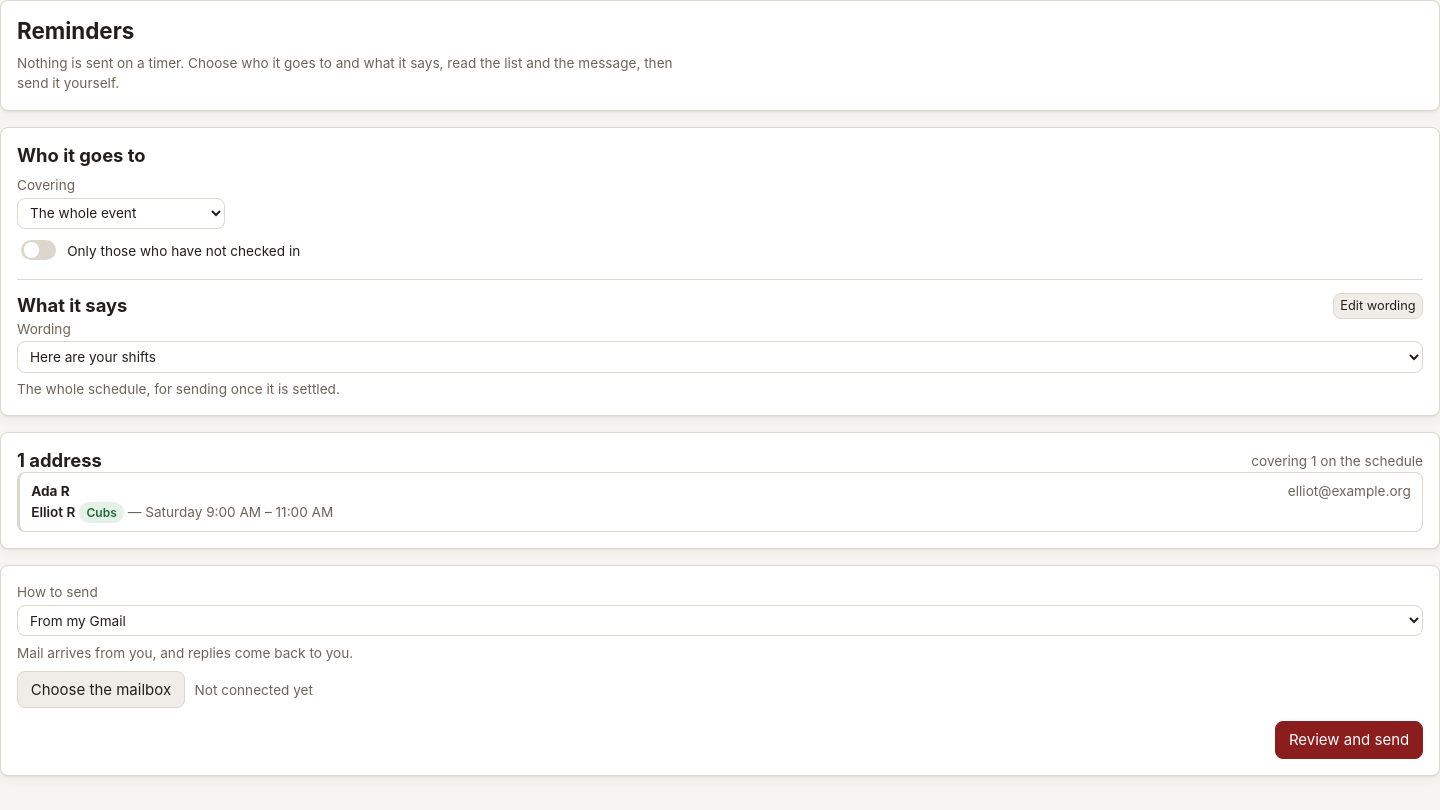
Scenario: the preview › for one hour of a stretch somebody works twice › names the day in the subject, and not an hour it does not work
Select "One shift" in the dropdown labelled "Covering" at [121, 213], box [17, 198, 225, 229]
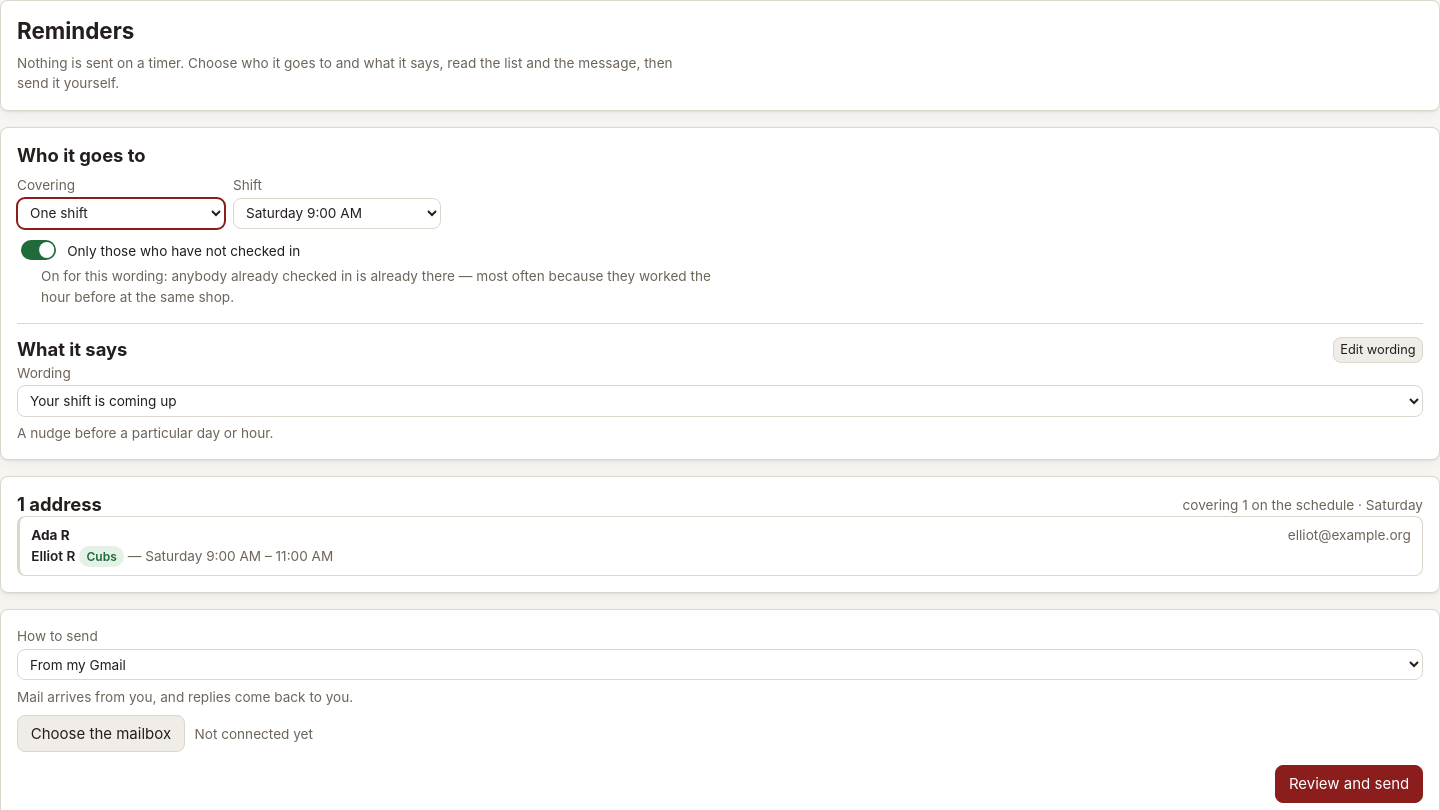
Select "Saturday 9:00 AM" in the dropdown labelled "Shift" at [337, 213], box [233, 198, 441, 229]
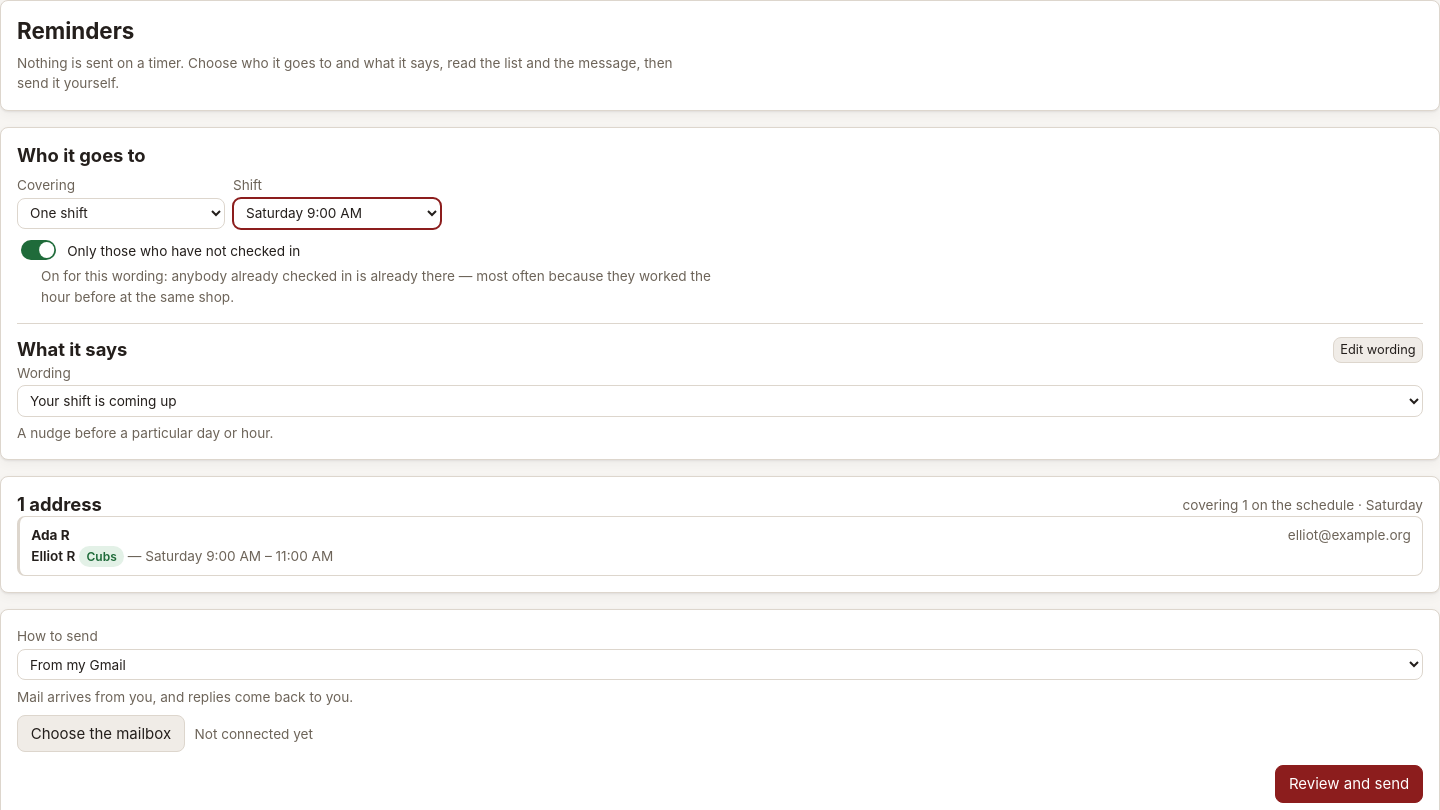
Click the button "Review and send".
click(1349, 784)  # box [1275, 765, 1423, 802]
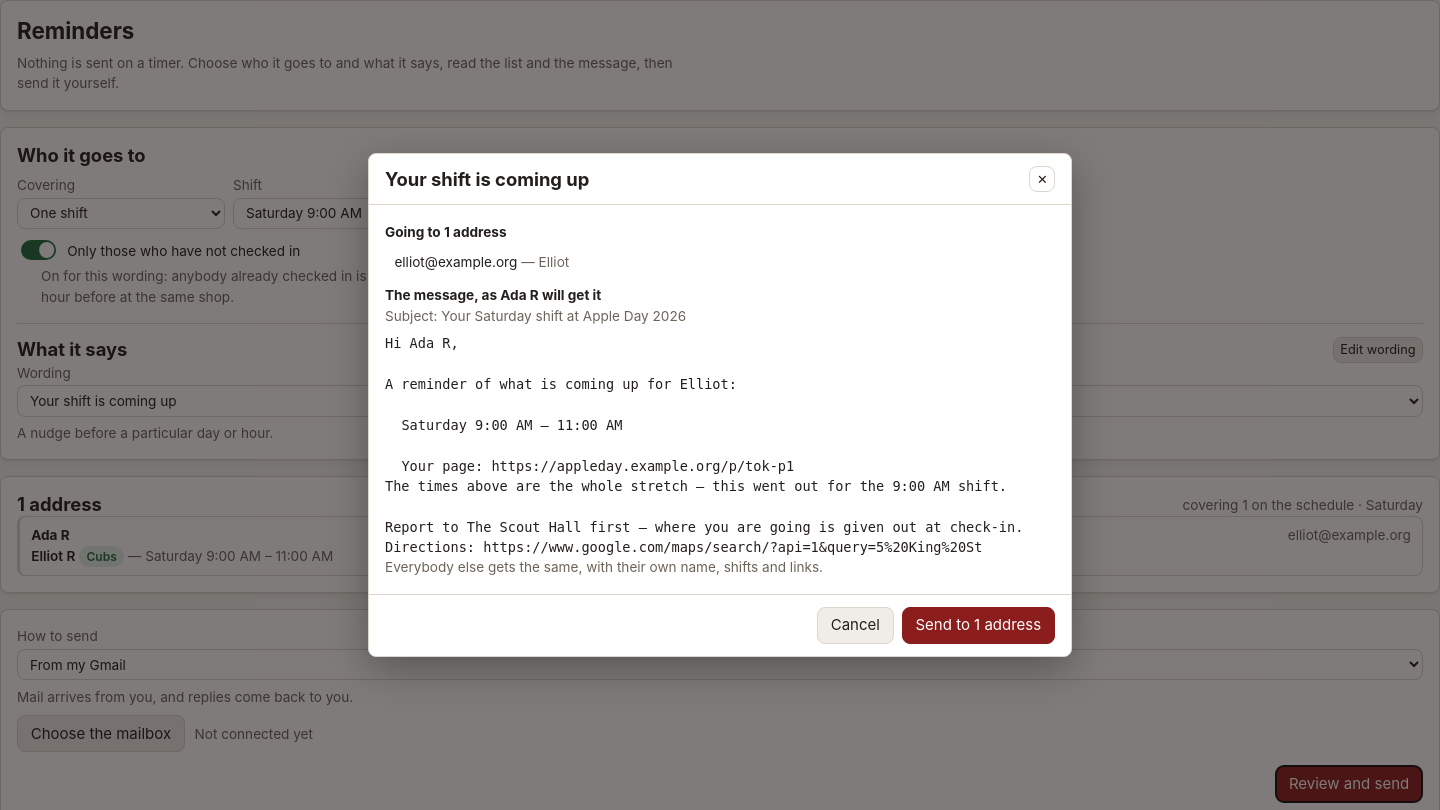
Expected: the text "Subject: Your Saturday shift at Apple Day 2026" is shown, [385, 308, 686, 324]
